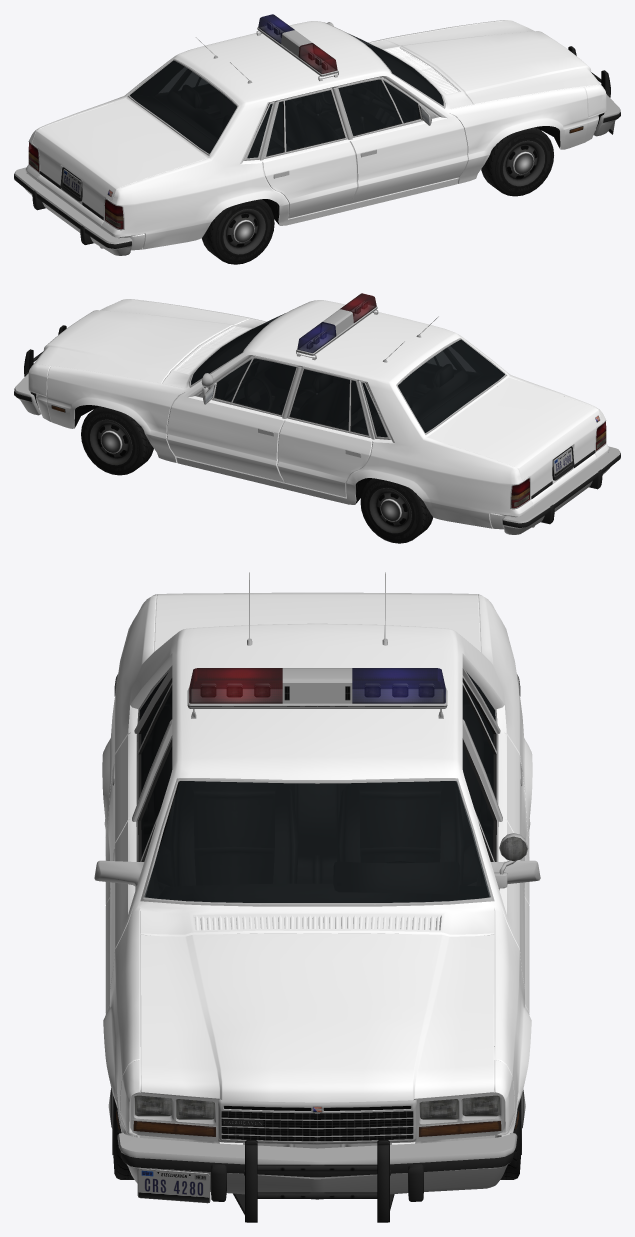
Rendered from copcrsr_hp.fbx.
3 renders of one model, top to bottom at view 1: azimuth 30°, elevation 25°; view 2: azimuth 150°, elevation 25°; view 3: azimuth 270°, elevation 25°, orthographic. The views are drawn at different scales.
Parts seen in each view (by area): view 1: Fairheaven_LT80_body001, Fairheaven_LT80_trunk_door001, Fairheaven_LT80_Hood001, Fairheaven_LT80_Interior_Trim001, Fairheaven_LT80_Interior001, Fairheaven_LT80_Glass_Rear001, Fairheaven_LT80_Glass_Body001, Fairheaven_LT80_Trim, Fairheaven_LT80_WheelStamp_FR, Fairheaven_LT80_WheelStamp_RR, Fairheaven_LT80_Glass_Passanger002, Fairheaven_LT80_bumper_rear001 (+9 smaller); view 2: Fairheaven_LT80_body001, Fairheaven_LT80_trunk_door001, Fairheaven_LT80_Hood001, Fairheaven_LT80_Interior_Trim001, Fairheaven_LT80_Interior001, Fairheaven_LT80_Glass_Rear001, Fairheaven_LT80_Glass_Body001, Fairheaven_LT80_Trim, Fairheaven_LT80_WheelStamp_FL, Fairheaven_LT80_WheelStamp_RL, Fairheaven_LT80_Glass_Driver002, Fairheaven_LT80_bumper_rear001 (+10 smaller); view 3: Fairheaven_LT80_body001, Fairheaven_LT80_Hood001, Fairheaven_LT80_Interior_Trim001, Fairheaven_LT80_Windshield001, Fairheaven_LT80_Bumper_Front001, Fairheaven_LT80_Front_Plate_Inner001, Fairheaven_LT80_trunk_door001, Fairheaven_LT80_Trim, Fairheaven_LT80_Lightbar, Fairheaven_LT80_Lightbar_Glass, Fairheaven_LT80_Headlights_Glass001, Fairheaven_LT80_Bullbar (+8 smaller).
Part boxes in pixels (x1,y1,x2,y2): Fairheaven_LT80_body001: (25,21,588,250); Fairheaven_LT80_trunk_door001: (32,98,207,220); Fairheaven_LT80_Hood001: (385,20,602,104); Fairheaven_LT80_Interior_Trim001: (167,49,443,157); Fairheaven_LT80_Interior001: (130,44,442,153); Fairheaven_LT80_Glass_Rear001: (130,60,236,153); Fairheaven_LT80_Glass_Body001: (159,67,344,158); Fairheaven_LT80_Trim: (28,22,445,230); Fairheaven_LT80_WheelStamp_FR: (481,127,553,196); Fairheaven_LT80_WheelStamp_RR: (201,199,274,264); Fairheaven_LT80_Glass_Passanger002: (338,79,419,135); Fairheaven_LT80_bumper_rear001: (14,167,132,255); Fairheaven_LT80_body001: (46,300,609,529); Fairheaven_LT80_trunk_door001: (427,377,602,499); Fairheaven_LT80_Hood001: (32,299,249,383); Fairheaven_LT80_Interior_Trim001: (191,330,467,436); Fairheaven_LT80_Interior001: (193,324,504,432); Fairheaven_LT80_Glass_Rear001: (398,339,504,432); Fairheaven_LT80_Glass_Body001: (290,346,474,437); Fairheaven_LT80_Trim: (189,301,606,509); Fairheaven_LT80_WheelStamp_FL: (81,406,153,475); Fairheaven_LT80_WheelStamp_RL: (360,478,433,543); Fairheaven_LT80_Glass_Driver002: (215,358,296,414); Fairheaven_LT80_bumper_rear001: (502,446,620,534); Fairheaven_LT80_body001: (102,594,532,1124); Fairheaven_LT80_Hood001: (140,933,494,1102); Fairheaven_LT80_Interior_Trim001: (144,705,490,902); Fairheaven_LT80_Windshield001: (144,781,490,902); Fairheaven_LT80_Bumper_Front001: (117,1132,517,1201); Fairheaven_LT80_Front_Plate_Inner001: (130,1093,504,1144); Fairheaven_LT80_trunk_door001: (154,592,480,651); Fairheaven_LT80_Trim: (94,665,540,906); Fairheaven_LT80_Lightbar: (187,668,447,718); Fairheaven_LT80_Lightbar_Glass: (189,668,445,703); Fairheaven_LT80_Headlights_Glass001: (133,1095,501,1136); Fairheaven_LT80_Bullbar: (233,1139,394,1222).
Size of the model in its own units: 5.07 by 1.57 by 1.83.
